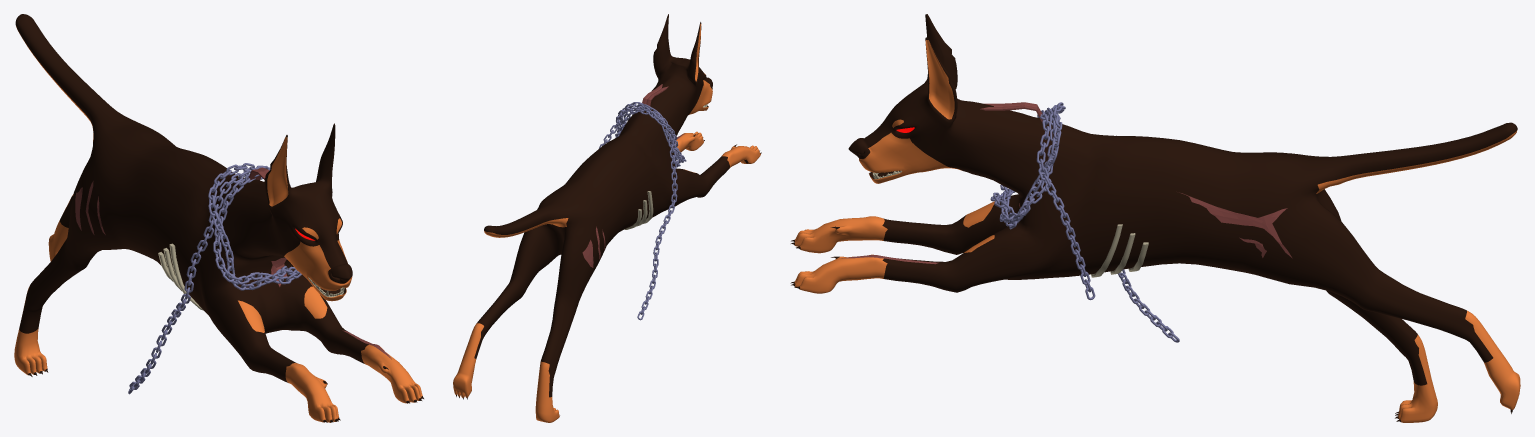
The model's file is per_perro.glb.
3 renders of one model, left to right at view 1: azimuth 30°, elevation 25°; view 2: azimuth 150°, elevation 25°; view 3: azimuth 270°, elevation 25°, orthographic. The views are drawn at different scales.
Visible parts, largest first — view 1: heridas; view 2: heridas; view 3: heridas.
Boxes of the visible parts, <box> form: heridas: <box>14,14,423,422</box>; heridas: <box>453,14,761,422</box>; heridas: <box>790,14,1520,422</box>.
Bounding box in the file's own units: 2.25 × 7.15 × 11.47.
